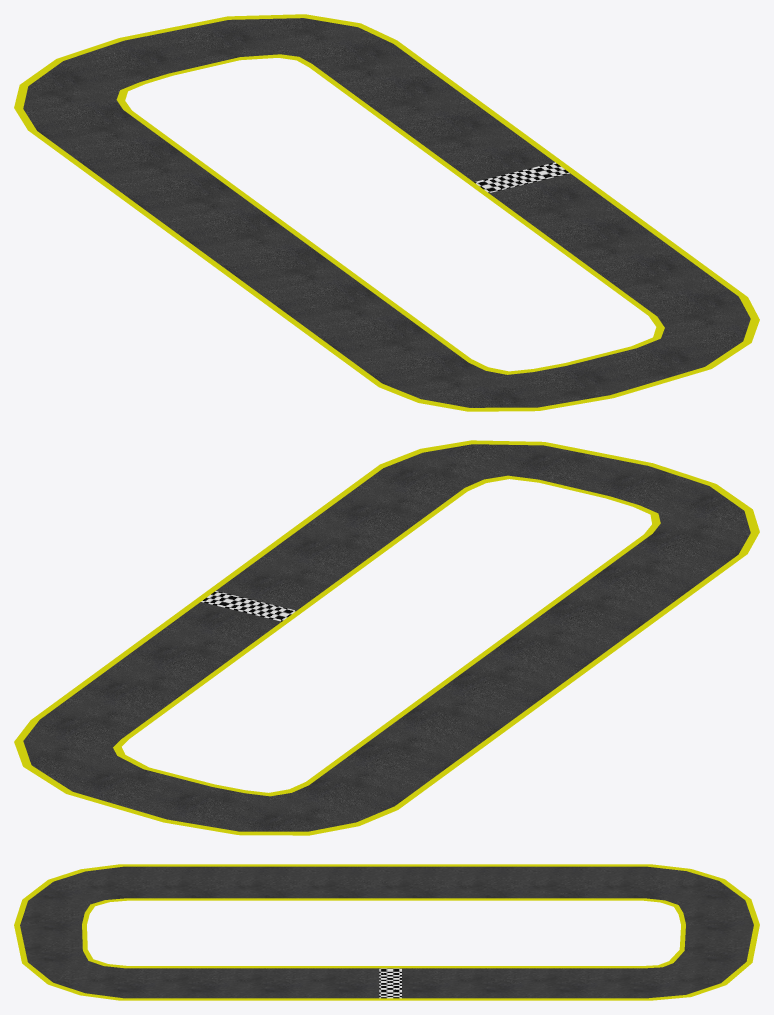
The model's file is running track.fbx.
The picture shows the model from 3 angles, top to bottom: view 1: azimuth 30°, elevation 25°; view 2: azimuth 150°, elevation 25°; view 3: azimuth 270°, elevation 25°; orthographic projection. The views are drawn at different scales.
Visible parts, largest first — view 1: running_track; view 2: running_track; view 3: running_track.
Boxes of the visible parts, box(x1,y1,x2,y2) form: running_track: box(14, 14, 759, 411); running_track: box(14, 440, 759, 835); running_track: box(14, 864, 759, 1000).
Bounding box in the file's own units: 6488 × 1.03 × 14993.
3 materials, 2 textured.
